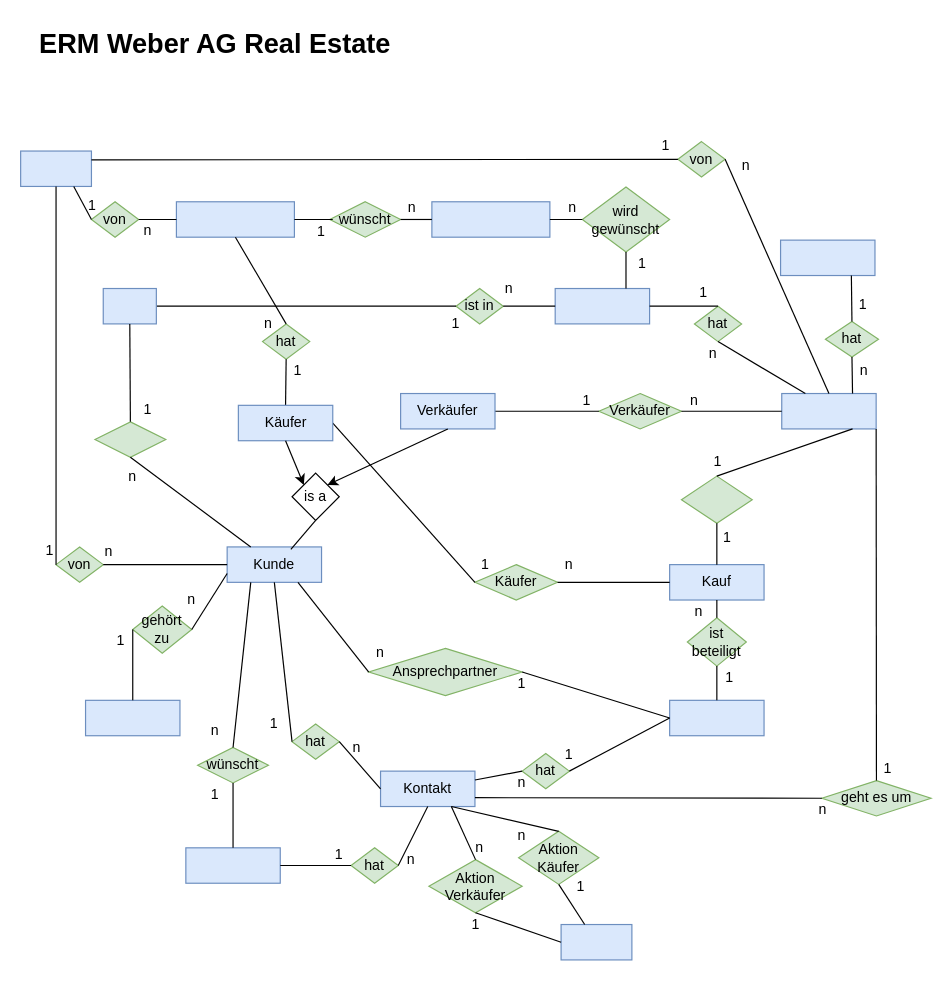
The diagram is 952 pixels wide and 981 high, and some of its shapes have lost their labels. The shapes that lost their labels are listed below. From the top down, each one's centre as x and y in pixels, then its label:
At point 55,168: "Quelle".
At point 234,219: "Kundenwunsch".
At point 490,219: "KundeLage".
At point 827,257: "Status".
At point 129,305: "Ort".
At point 602,305: "Lage".
At point 828,410: "Objekt".
At point 130,439: "wohnt".
At point 716,499: "wird gekauft".
At point 132,717: "Kundentyp".
At point 716,717: "Mitarbeiter".
At point 232,865: "Kontaktart".
At point 596,941: "Aktion".
